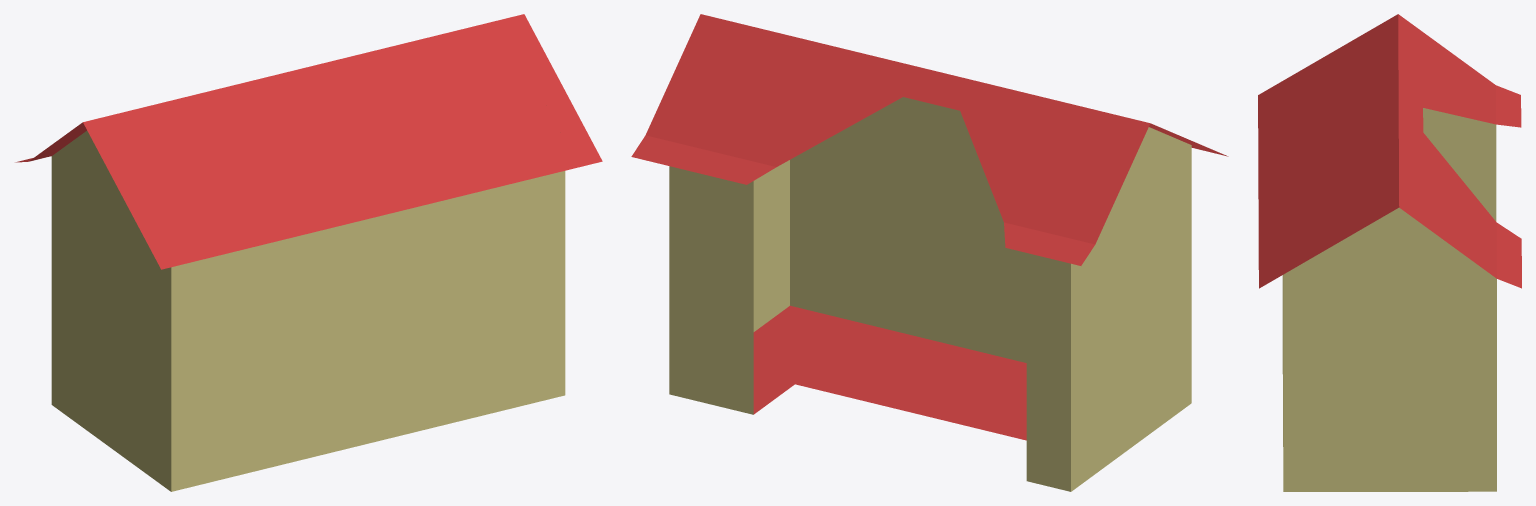
3 views of the same model, side by side, from view 1: azimuth 30°, elevation 25°; view 2: azimuth 150°, elevation 25°; view 3: azimuth 270°, elevation 25° (orthographic). The views are drawn at different scales.
Size of the model in its own units: 18.7 by 10.76 by 13.26.
